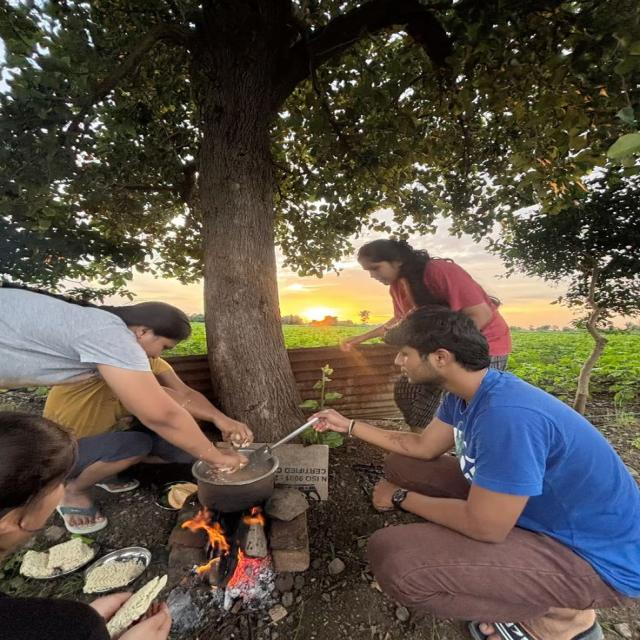fire: (181, 507, 230, 556)
